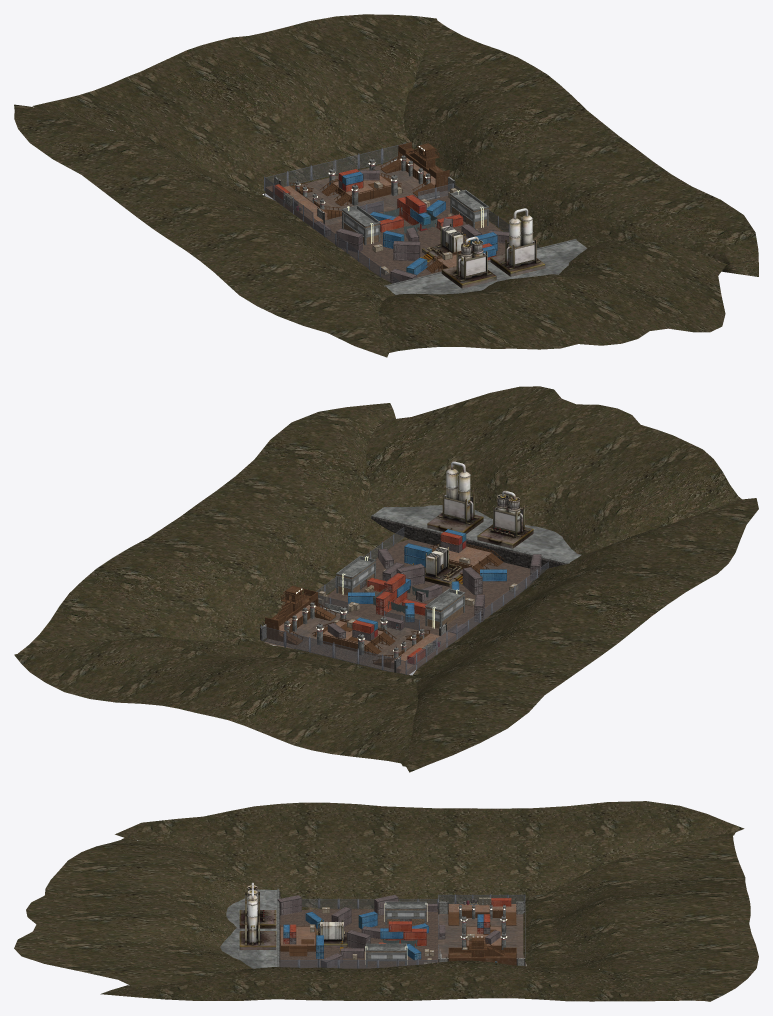
Rendered from collection.glb.
3 renders of one model, top to bottom at view 1: azimuth 30°, elevation 25°; view 2: azimuth 150°, elevation 25°; view 3: azimuth 270°, elevation 25°, orthographic. The views are drawn at different scales.
Visible parts, largest first — view 1: Plane005, Env Structure 02, Cube004, Cube001, Plane, Fence001, Plane001, Cube012, Cube081, Plane001_1, Cube011, colon2 2colons and floor low001; view 2: Plane005, Env Structure 02, Cube001, Cube004, Plane, Fence001, Plane001_1, Plane001, Cube011, Cube012, Cube081, Cube081_1 (+1 smaller); view 3: Plane005, Env Structure 02, Cube004, Cube001, Plane001_1, Plane, Plane001, Cube012, Cube011, Cube081_1, Fence005_1, Fence004_1 (+4 smaller).
Boxes of the visible parts, left/top/right/bottom form: Plane005: left=14, top=14, right=758, bottom=357; Env Structure 02: left=420, top=208, right=545, bottom=288; Cube004: left=265, top=142, right=449, bottom=227; Cube001: left=386, top=240, right=587, bottom=294; Plane: left=299, top=161, right=448, bottom=225; Fence001: left=264, top=142, right=405, bottom=190; Plane001: left=325, top=196, right=497, bottom=261; Cube012: left=450, top=189, right=489, bottom=228; Cube081: left=320, top=169, right=401, bottom=205; Plane001_1: left=360, top=228, right=505, bottom=281; Cube011: left=341, top=205, right=380, bottom=245; colon2 2colons and floor low001: left=295, top=154, right=430, bottom=209; Plane005: left=14, top=386, right=758, bottom=772; Env Structure 02: left=425, top=461, right=533, bottom=586; Cube001: left=371, top=505, right=581, bottom=570; Cube004: left=265, top=585, right=456, bottom=674; Plane: left=264, top=607, right=428, bottom=672; Fence001: left=260, top=625, right=406, bottom=674; Plane001_1: left=375, top=539, right=531, bottom=605; Plane001: left=319, top=574, right=502, bottom=635; Cube011: left=425, top=588, right=465, bottom=628; Cube012: left=336, top=556, right=376, bottom=595; Cube081: left=312, top=618, right=396, bottom=655; Cube081_1: left=430, top=543, right=504, bottom=573; Plane005: left=14, top=801, right=758, bottom=1001; Env Structure 02: left=239, top=882, right=347, bottom=949; Cube004: left=448, top=904, right=516, bottom=965; Cube001: left=220, top=889, right=280, bottom=968; Plane001_1: left=280, top=909, right=357, bottom=968; Plane: left=438, top=914, right=525, bottom=966; Plane001: left=357, top=909, right=438, bottom=968; Cube012: left=365, top=943, right=407, bottom=967; Cube011: left=384, top=901, right=427, bottom=925; Cube081_1: left=280, top=924, right=315, bottom=956; Fence005_1: left=280, top=959, right=357, bottom=968; Fence004_1: left=302, top=898, right=358, bottom=909.
Bounding box in the file's own units: 13.98 × 2.22 × 22.
Materials: 27 (27 with a texture image).
